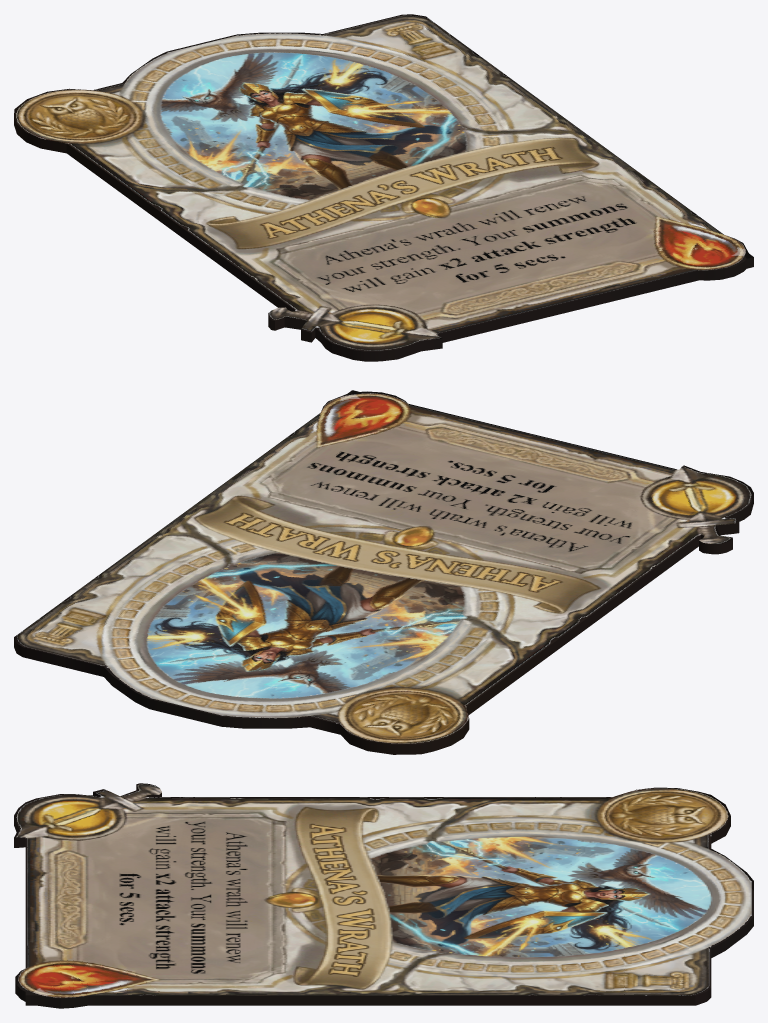
The model's file is playing card.fbx.
3 views of the same model, one above another, from view 1: azimuth 30°, elevation 25°; view 2: azimuth 150°, elevation 25°; view 3: azimuth 270°, elevation 25° (orthographic). The views are drawn at different scales.
Parts seen in each view (by area): view 1: Playing Card; view 2: Playing Card; view 3: Playing Card.
Part boxes in pixels (box(x1,y1,x2,y2)): Playing Card: box(14, 14, 753, 361); Playing Card: box(14, 390, 753, 754); Playing Card: box(14, 783, 753, 1008).
Bounding box in the file's own units: 136 × 2.96 × 197.
